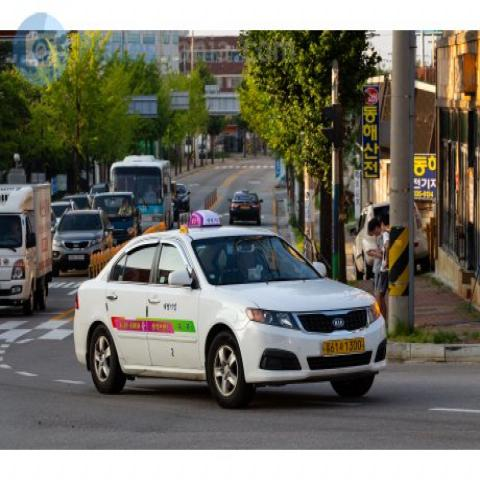LP: (316, 331, 372, 362)
